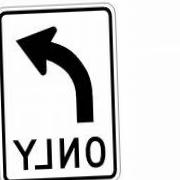left: (10, 21, 106, 128)
